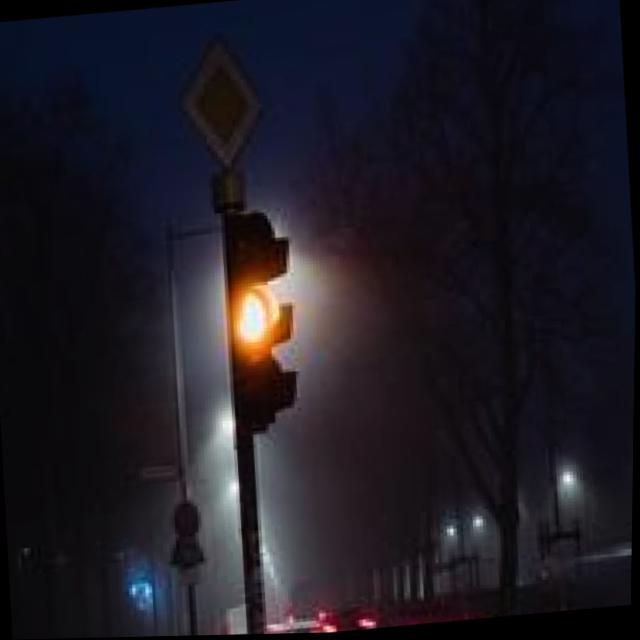yellow_light: (218, 269, 319, 350)
